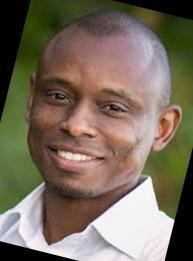Sober: (40, 40, 146, 190)
